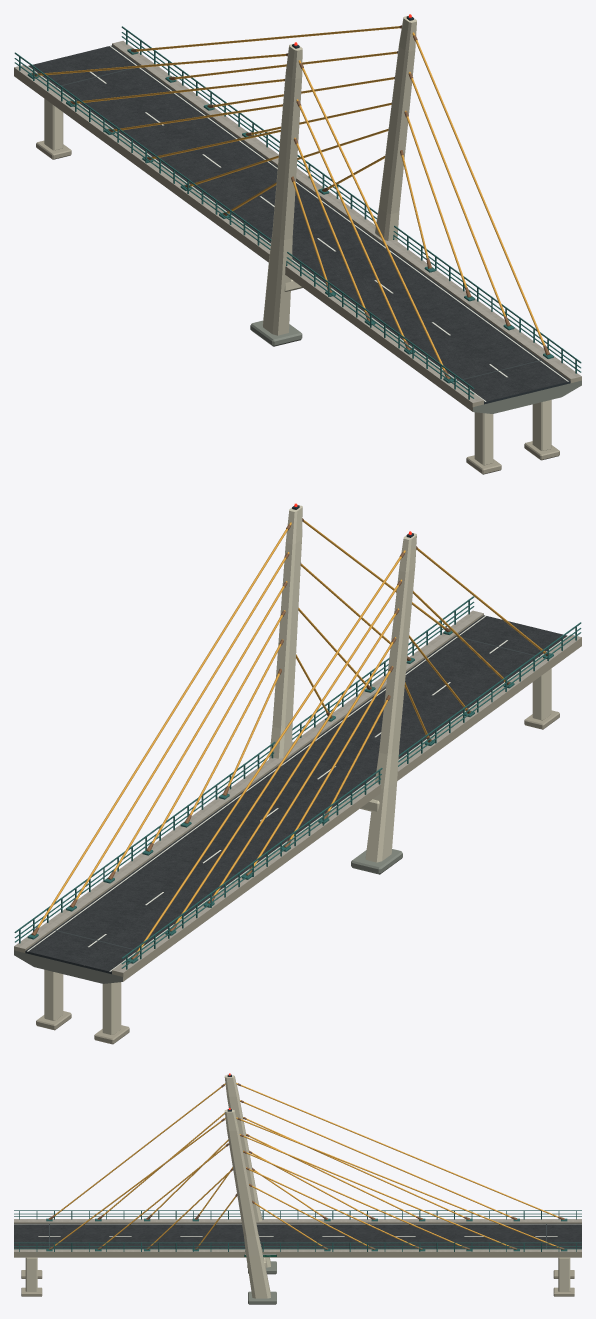
The picture shows the model from 3 angles, top to bottom: view 1: azimuth 30°, elevation 25°; view 2: azimuth 150°, elevation 25°; view 3: azimuth 270°, elevation 25°; orthographic projection. The views are drawn at different scales.
Visible parts, largest first — view 1: Bituminous surface, Inspection footways, Harp stays, Inclined tower blades, Walkway rail, Closed box girder, End pier shafts, Walkway uprights, Edge lines, End pier plinths, Deck anchor plates, Tower footings; view 2: Bituminous surface, Harp stays, Inspection footways, Inclined tower blades, Walkway rail, Closed box girder, End pier shafts, Walkway uprights, Edge lines, End pier plinths, Deck anchor plates; view 3: Bituminous surface, Harp stays, Inspection footways, Walkway rail, Inclined tower blades, Closed box girder, End pier shafts, Walkway uprights, Edge lines, End pier plinths, Tower footings, Deck anchor plates (+1 smaller).
Boxes of the visible parts, x1,y1,x2,y2 form: Bituminous surface: (28,45,570,404); Inspection footways: (14,41,581,407); Harp stays: (37,26,545,370); Inclined tower blades: (262,15,416,335); Walkway rail: (14,26,581,398); Closed box girder: (14,72,581,413); End pier shafts: (44,98,551,465); Walkway uprights: (19,29,576,399); Edge lines: (27,45,568,401); End pier plinths: (36,140,559,474); Deck anchor plates: (27,48,553,383); Tower footings: (250,320,302,346); Bituminous surface: (25,615,567,974); Harp stays: (33,520,545,959); Inspection footways: (14,610,581,976); Inclined tower blades: (269,505,416,862); Walkway rail: (14,596,581,968); Closed box girder: (14,642,581,983); End pier shafts: (44,668,551,1034); Walkway uprights: (19,599,576,969); Edge lines: (27,615,568,971); End pier plinths: (36,710,559,1044); Deck anchor plates: (27,628,553,963); Bituminous surface: (14,1223,581,1248); Harp stays: (54,1083,558,1247); Inspection footways: (14,1219,581,1254); Walkway rail: (14,1210,581,1249); Inclined tower blades: (224,1075,270,1298); Closed box girder: (14,1254,581,1257); End pier shafts: (25,1257,570,1291); Walkway uprights: (19,1210,576,1251); Edge lines: (14,1224,581,1224); End pier plinths: (21,1270,574,1296); Tower footings: (248,1261,276,1304); Deck anchor plates: (46,1218,567,1251).
Size of the model in its own units: 10.54 by 24.14 by 64.
Materials: 15 (2 with a texture image).
